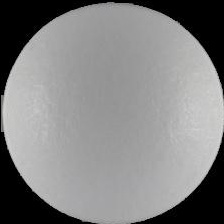0573-2660: (0, 0, 224, 224)
